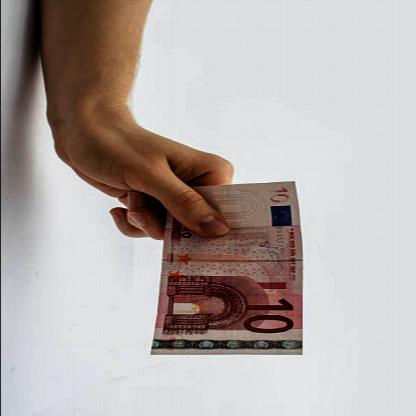euro_banknote: (140, 192, 315, 345)
